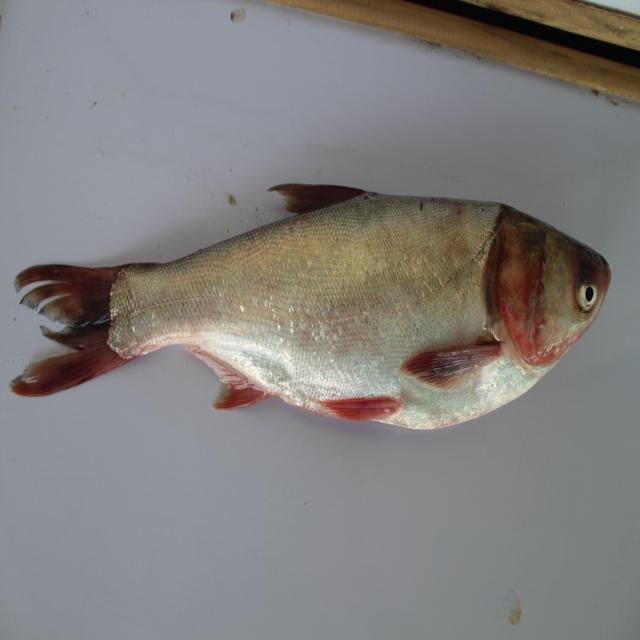SilverCarp: (1, 178, 619, 447)
